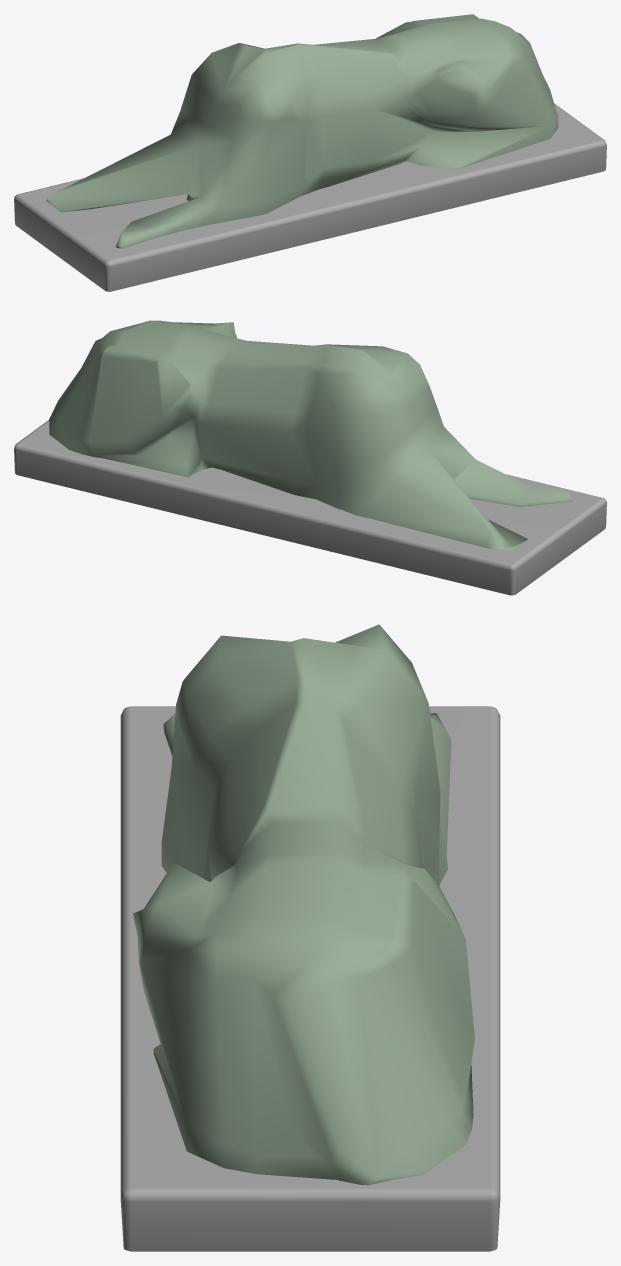
Rendered from ESFINGE_LOD2.fbx.
3 renders of one model, top to bottom at view 1: azimuth 30°, elevation 25°; view 2: azimuth 150°, elevation 25°; view 3: azimuth 270°, elevation 25°, orthographic. The views are drawn at different scales.
Visible parts, largest first — view 1: pCube2; view 2: pCube2; view 3: pCube2.
Boxes of the visible parts, x1,y1,x2,y2 form: pCube2: [14, 14, 606, 291]; pCube2: [14, 320, 606, 595]; pCube2: [120, 624, 500, 1251].
Bounding box in the file's own units: 1751 × 543 × 574.
